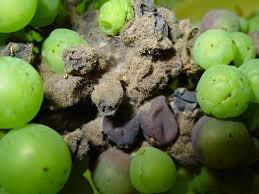Grape Rotten: (0, 0, 259, 194), (129, 146, 177, 194)
